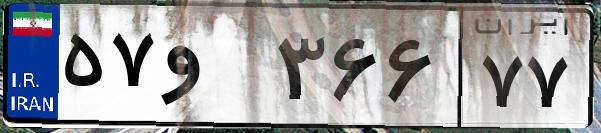3: (270, 28, 330, 110)
5: (57, 26, 110, 100)
6: (385, 28, 445, 110), (330, 28, 385, 110)
7: (475, 38, 525, 113), (525, 38, 570, 115), (110, 28, 158, 98)
و: (158, 20, 270, 120)
